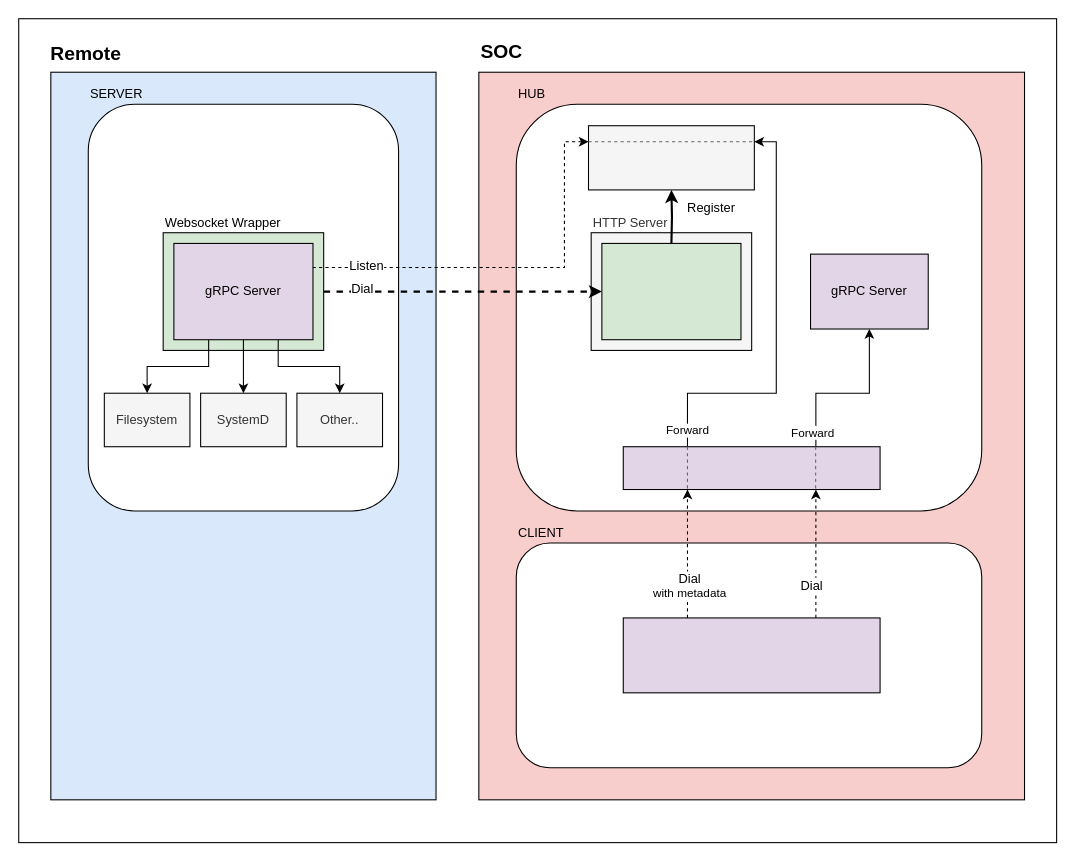
This 1075x861 diagram has some shape labels left out. The centre of each missing label's shape, as x and y in pixels:
"Connection Registrry" belongs at [670,157].
"gRPC Client" belongs at [751,655].
"gRPC Proxy" belongs at [751,468].
"Websocket Handler" belongs at [671,291].
